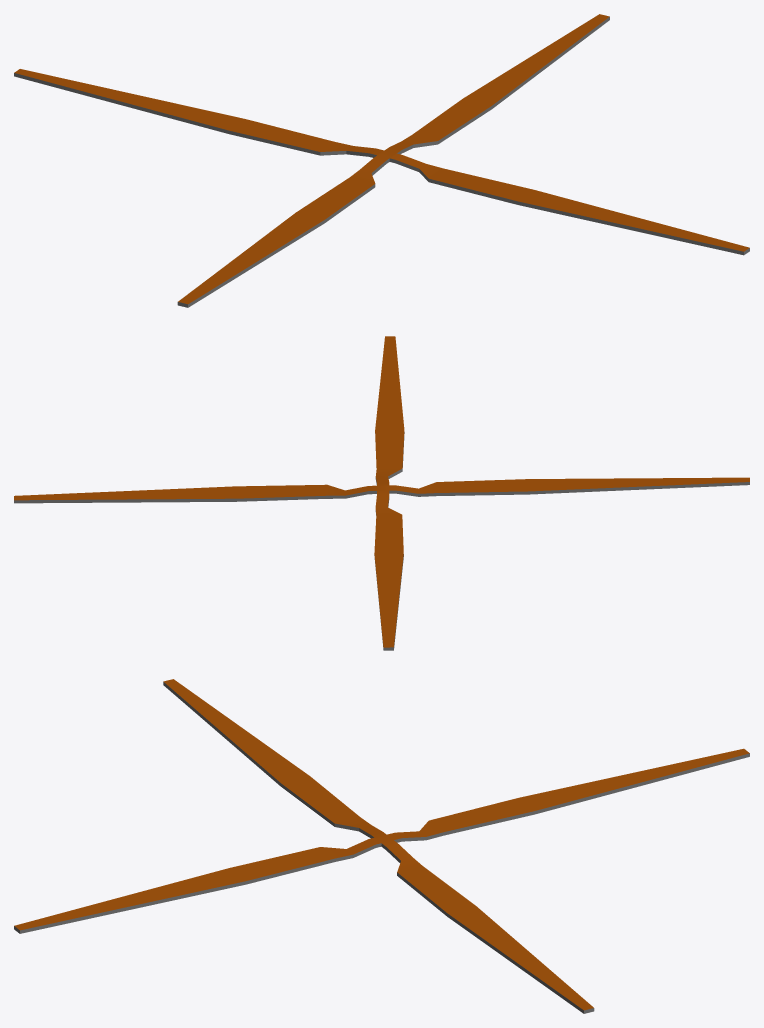
The model's file is topPropellers.fbx.
3 views of the same model, one above another, from view 1: azimuth 30°, elevation 25°; view 2: azimuth 150°, elevation 25°; view 3: azimuth 270°, elevation 25° (orthographic). The views are drawn at different scales.
Parts seen in each view (by area): view 1: polySurface155; view 2: polySurface155; view 3: polySurface155.
Boxes of the visible parts, x1=… form: polySurface155: x1=14, y1=14, x2=749, y2=307; polySurface155: x1=14, y1=336, x2=749, y2=650; polySurface155: x1=14, y1=679, x2=749, y2=1013.
Size of the model in its own units: 13.94 by 0.5121 by 13.96.
